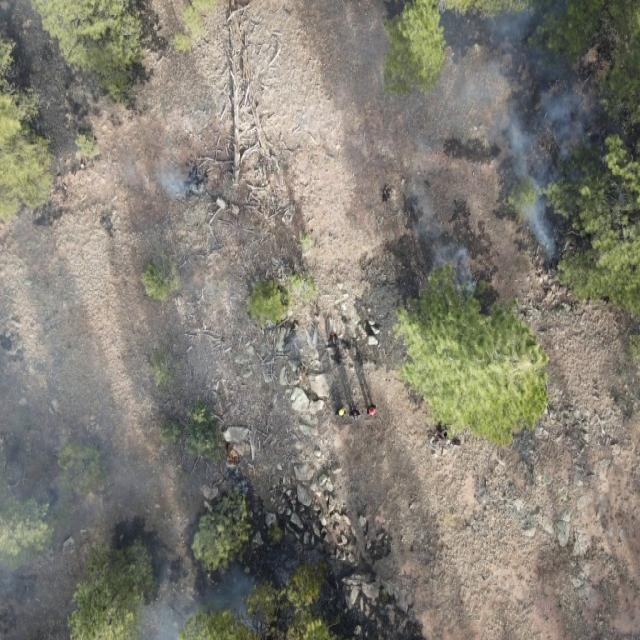fire: (222, 450, 240, 465), (329, 334, 337, 344)
smoke: (4, 310, 280, 640), (356, 0, 605, 290), (92, 152, 230, 299)
